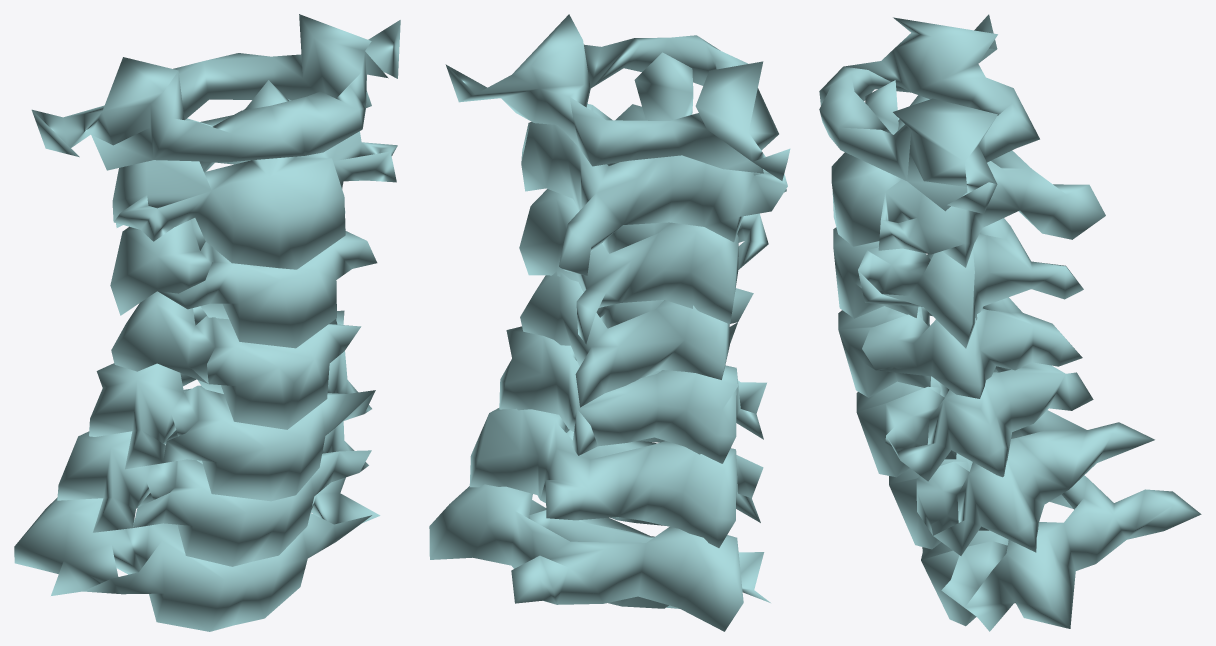
Rendered from skelly_cervical_spine.fbx.
3 renders of one model, left to right at view 1: azimuth 30°, elevation 25°; view 2: azimuth 150°, elevation 25°; view 3: azimuth 270°, elevation 25°, orthographic. The views are drawn at different scales.
Parts seen in each view (by area): view 1: skelly_cervical_spine; view 2: skelly_cervical_spine; view 3: skelly_cervical_spine.
Boxes of the visible parts, x1=… form: skelly_cervical_spine: x1=14, y1=14, x2=400, y2=631; skelly_cervical_spine: x1=429, y1=14, x2=790, y2=631; skelly_cervical_spine: x1=819, y1=14, x2=1201, y2=631.
Size of the model in its own units: 9.07 by 13.71 by 8.72.
